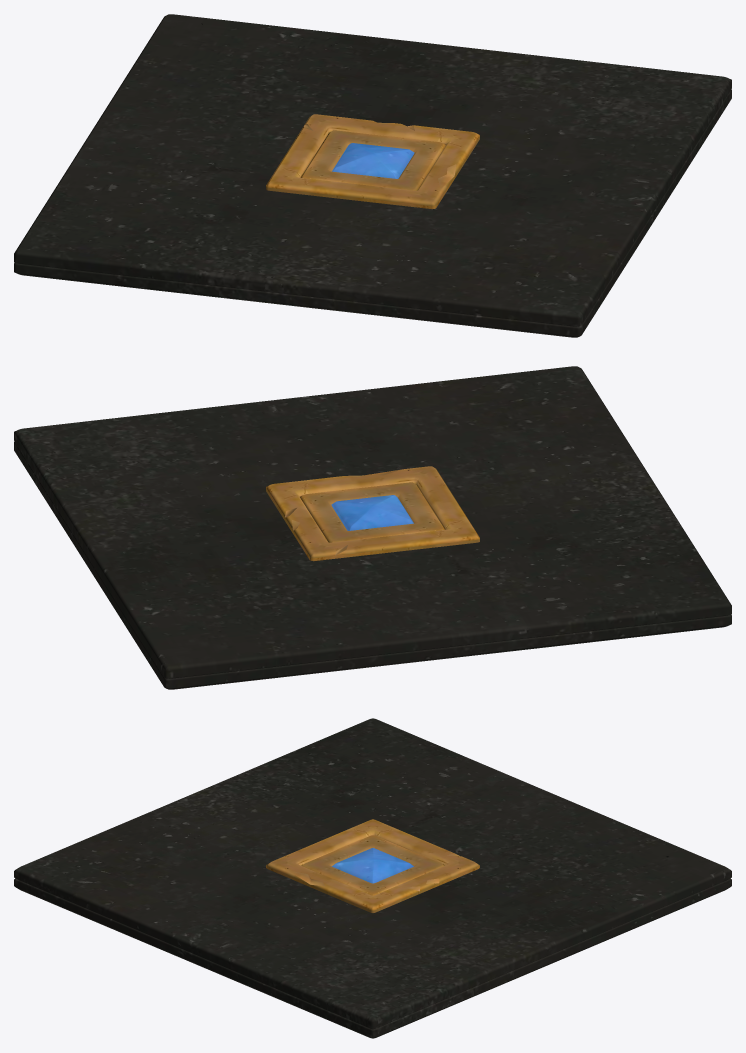
3 renders of one model, top to bottom at view 1: azimuth 30°, elevation 25°; view 2: azimuth 150°, elevation 25°; view 3: azimuth 270°, elevation 25°, orthographic. The views are drawn at different scales.
Visible parts, largest first — view 1: SM_Vault_Pressure_Plate_01_PressurePlate_LOD0; view 2: SM_Vault_Pressure_Plate_01_PressurePlate_LOD0; view 3: SM_Vault_Pressure_Plate_01_PressurePlate_LOD0.
Part boxes in pixels (x1=…): SM_Vault_Pressure_Plate_01_PressurePlate_LOD0: x1=14, y1=14, x2=731, y2=337; SM_Vault_Pressure_Plate_01_PressurePlate_LOD0: x1=14, y1=366, x2=731, y2=689; SM_Vault_Pressure_Plate_01_PressurePlate_LOD0: x1=14, y1=718, x2=731, y2=1038.
Size of the model in its own units: 3.37 by 0.1539 by 3.37.
3 materials, 3 textured.
